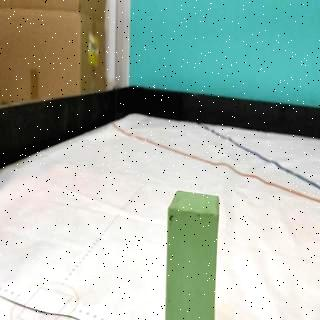greenbox: (167, 189, 220, 320)
